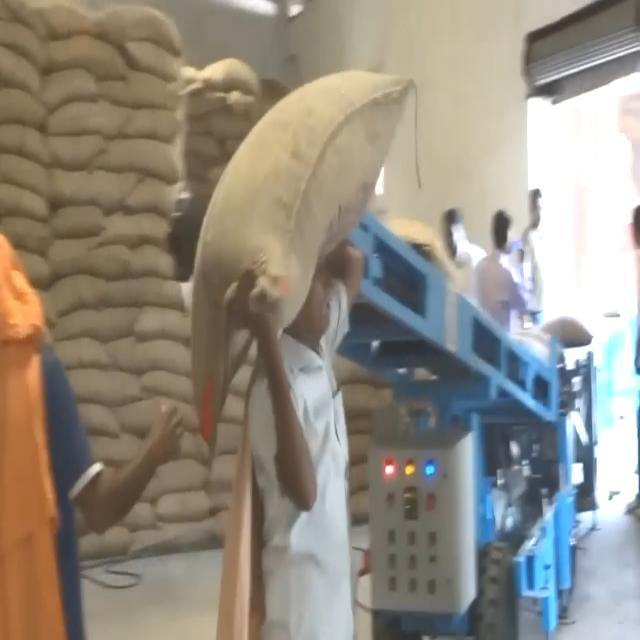gunny_bag: (188, 72, 420, 457), (43, 162, 140, 220), (40, 94, 134, 146), (96, 130, 188, 182), (96, 2, 184, 55), (94, 130, 180, 184), (45, 236, 134, 286), (48, 302, 142, 348), (98, 67, 182, 118), (42, 270, 125, 319), (112, 273, 192, 319), (49, 36, 128, 80), (110, 334, 190, 376), (68, 360, 140, 406), (103, 208, 170, 256), (40, 64, 108, 108), (0, 24, 53, 78), (195, 56, 262, 97), (129, 306, 195, 346), (1, 88, 61, 132), (34, 126, 102, 162), (3, 148, 52, 196), (43, 204, 108, 240), (129, 174, 179, 218), (156, 491, 211, 524)
